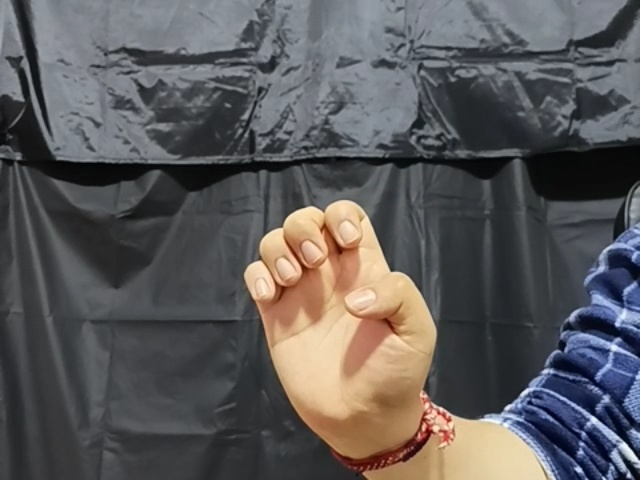E: (239, 200, 440, 447)
